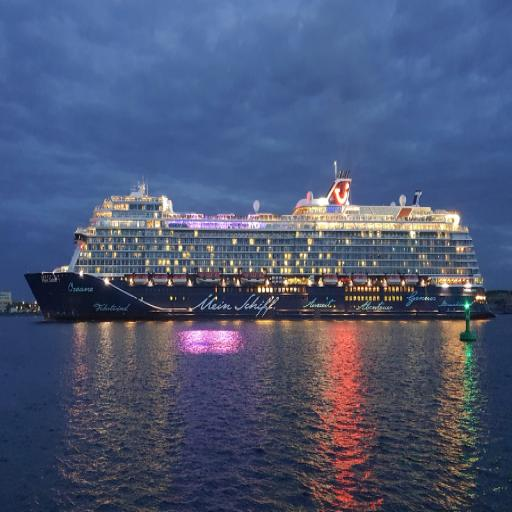cruises: (23, 157, 496, 325)
